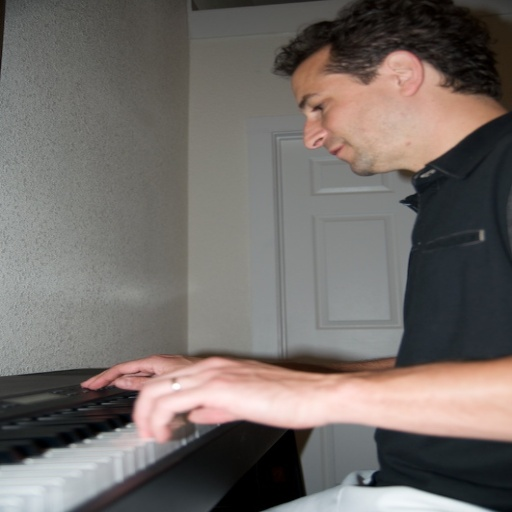hand: (76, 366, 471, 455), (80, 353, 202, 389)
